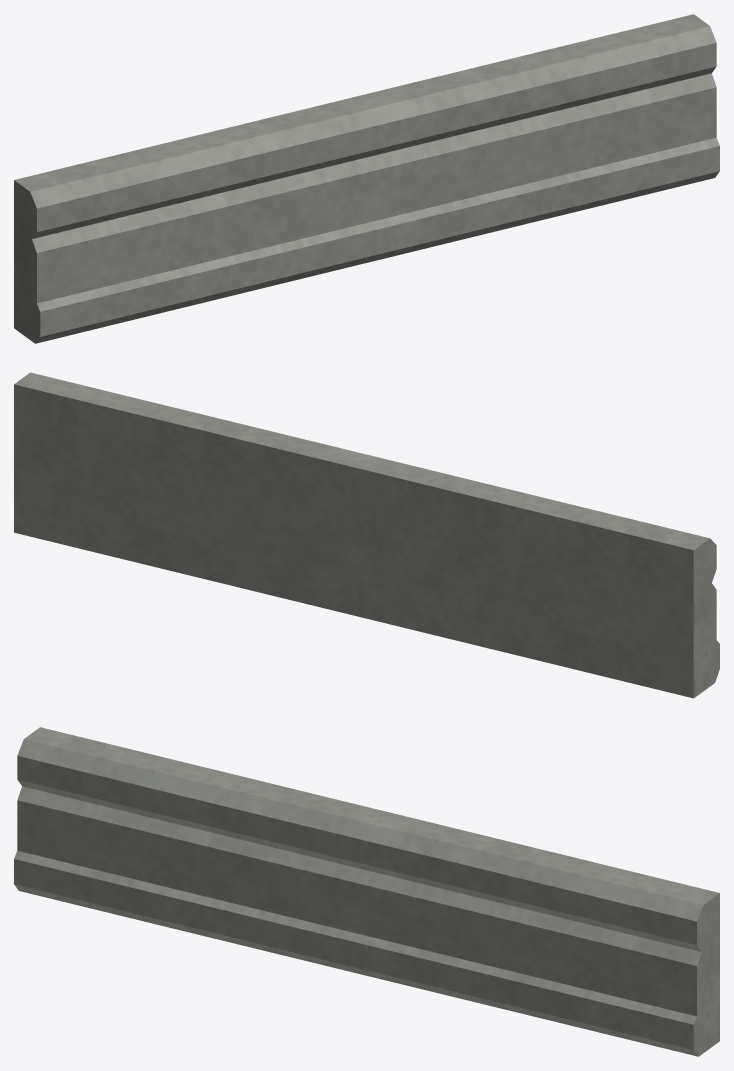
Rendered from concrete-shadow-plinth.lod1.glb.
3 renders of one model, top to bottom at view 1: azimuth 30°, elevation 25°; view 2: azimuth 150°, elevation 25°; view 3: azimuth 330°, elevation 25°, orthographic.
Visible parts, largest first — view 1: concrete-shadow-plinth; view 2: concrete-shadow-plinth; view 3: concrete-shadow-plinth.
Boxes of the visible parts, <box> form: concrete-shadow-plinth: <box>14,14,719,343</box>; concrete-shadow-plinth: <box>14,372,719,698</box>; concrete-shadow-plinth: <box>14,727,719,1056</box>.
Size of the model in its own units: 2.4 by 0.5 by 0.16.
Materials: 1 (1 with a texture image).
